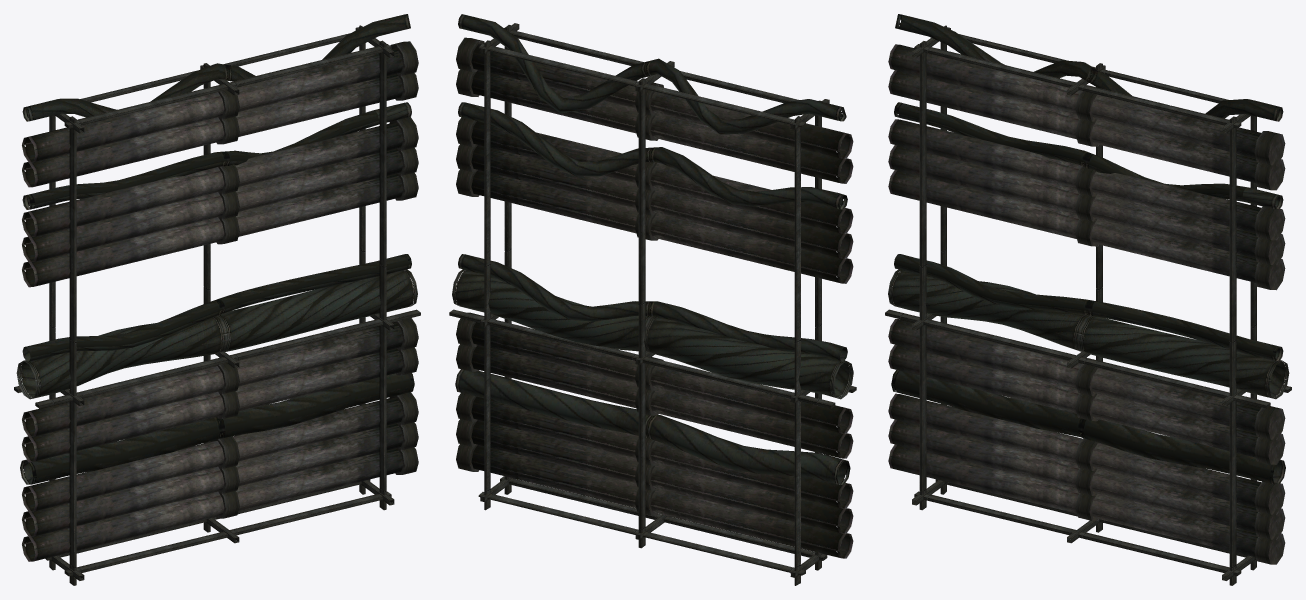
Rendered from tesla_dressing_pipe_clusters_05.dae.
3 renders of one model, left to right at view 1: azimuth 30°, elevation 25°; view 2: azimuth 150°, elevation 25°; view 3: azimuth 330°, elevation 25°, orthographic.
Visible parts, largest first — view 1: wirebase_polySurface1, polySurface62, cluster_01_frame3; view 2: wirebase_polySurface1, polySurface62, cluster_01_frame3; view 3: wirebase_polySurface1, polySurface62, cluster_01_frame3.
Part boxes in pixels (x1=…): wirebase_polySurface1: x1=22, y1=41, x2=418, y2=561; polySurface62: x1=16, y1=14, x2=417, y2=484; cluster_01_frame3: x1=14, y1=25, x2=420, y2=585; wirebase_polySurface1: x1=456, y1=37, x2=853, y2=558; polySurface62: x1=452, y1=14, x2=853, y2=484; cluster_01_frame3: x1=449, y1=23, x2=856, y2=585; wirebase_polySurface1: x1=888, y1=44, x2=1285, y2=564; polySurface62: x1=888, y1=14, x2=1289, y2=484; cluster_01_frame3: x1=885, y1=25, x2=1291, y2=585.
Bounding box in the file's own units: 4003 × 4789 × 680.
